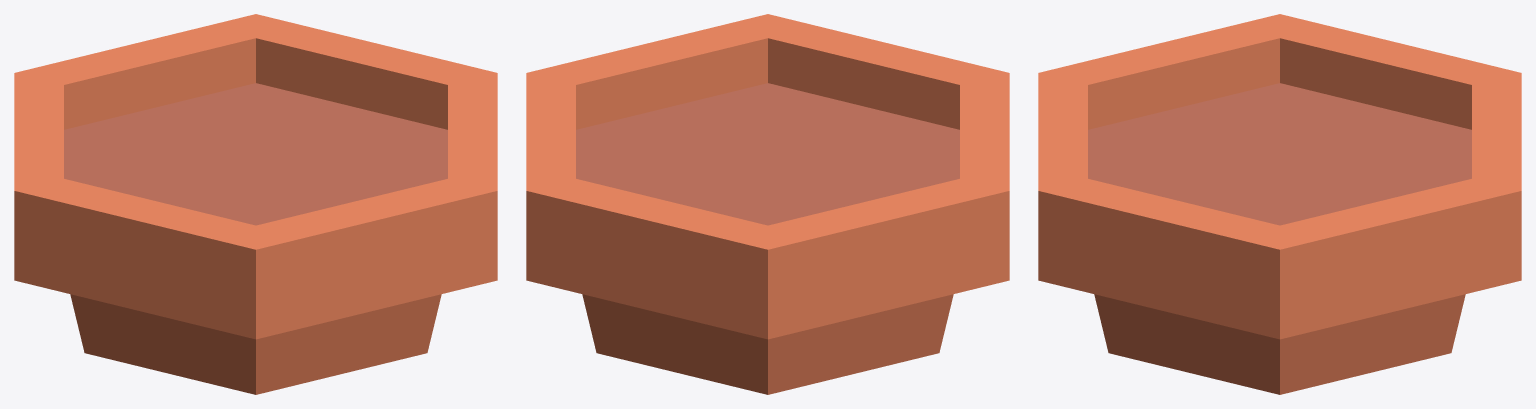
The model's file is d_kenney_jarre.glb.
3 views of the same model, side by side, from view 1: azimuth 30°, elevation 25°; view 2: azimuth 150°, elevation 25°; view 3: azimuth 270°, elevation 25° (orthographic).
Parts seen in each view (by area): view 1: d_kenney_jarre; view 2: d_kenney_jarre; view 3: d_kenney_jarre.
Boxes of the visible parts, <box> form: d_kenney_jarre: <box>14,14,497,394</box>; d_kenney_jarre: <box>526,14,1009,394</box>; d_kenney_jarre: <box>1038,14,1521,394</box>.
Bounding box in the file's own units: 0.5636 × 0.2 × 0.4881.
Materials: 1 (1 with a texture image).
